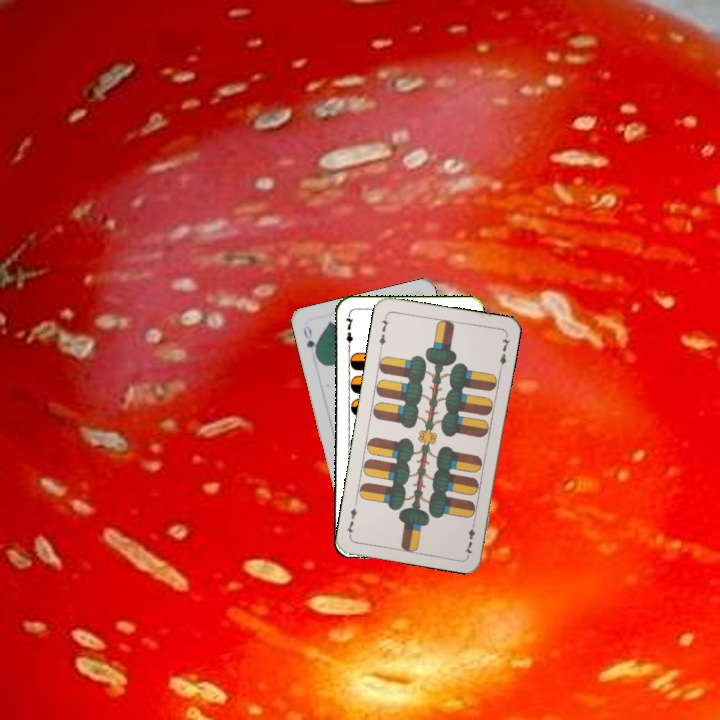E7: (375, 311, 392, 352), (461, 517, 478, 557), (342, 311, 356, 352)
GO: (299, 322, 320, 361)
